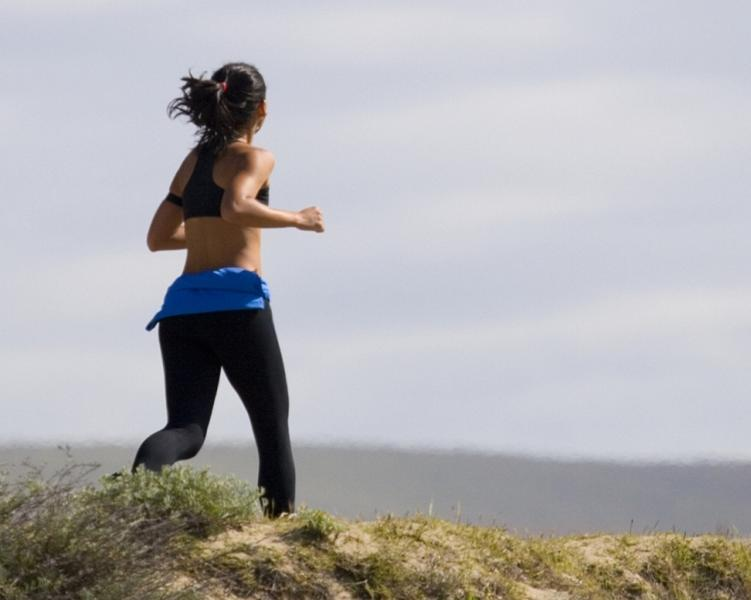person: (129, 61, 326, 520)
